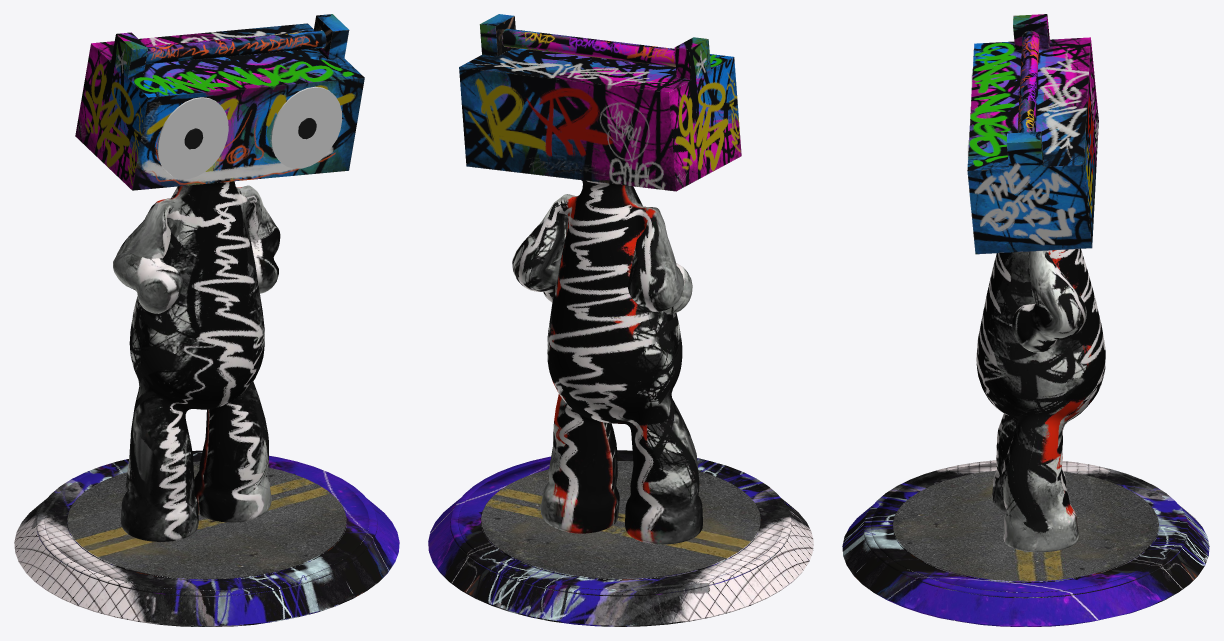
3 views of the same model, side by side, from view 1: azimuth 30°, elevation 25°; view 2: azimuth 150°, elevation 25°; view 3: azimuth 270°, elevation 25° (orthographic). The views are drawn at different scales.
Parts seen in each view (by area): view 1: BBody; view 2: BBody; view 3: BBody.
Boxes of the visible parts, x1=… form: BBody: x1=14, y1=14, x2=399, y2=626; BBody: x1=428, y1=14, x2=813, y2=626; BBody: x1=842, y1=14, x2=1209, y2=626.
Size of the model in its own units: 1.45 by 2.17 by 1.45.
6 materials, 4 textured.
